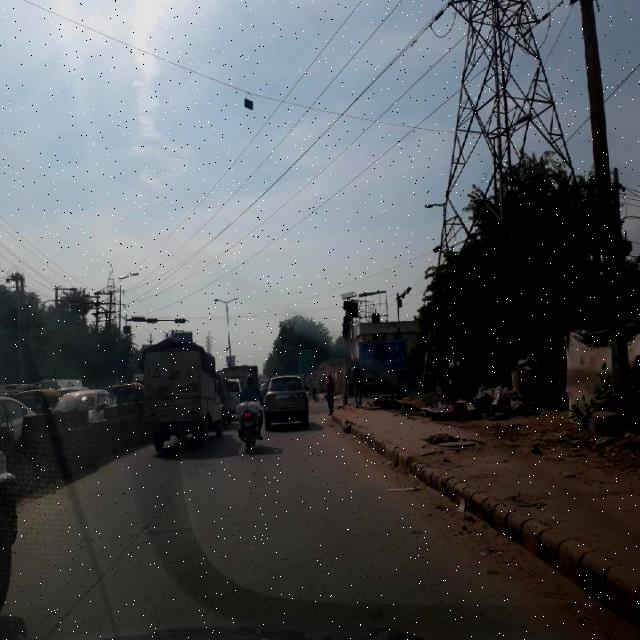D01: (53, 548, 129, 639), (132, 458, 207, 549)
D11: (152, 499, 394, 545)
